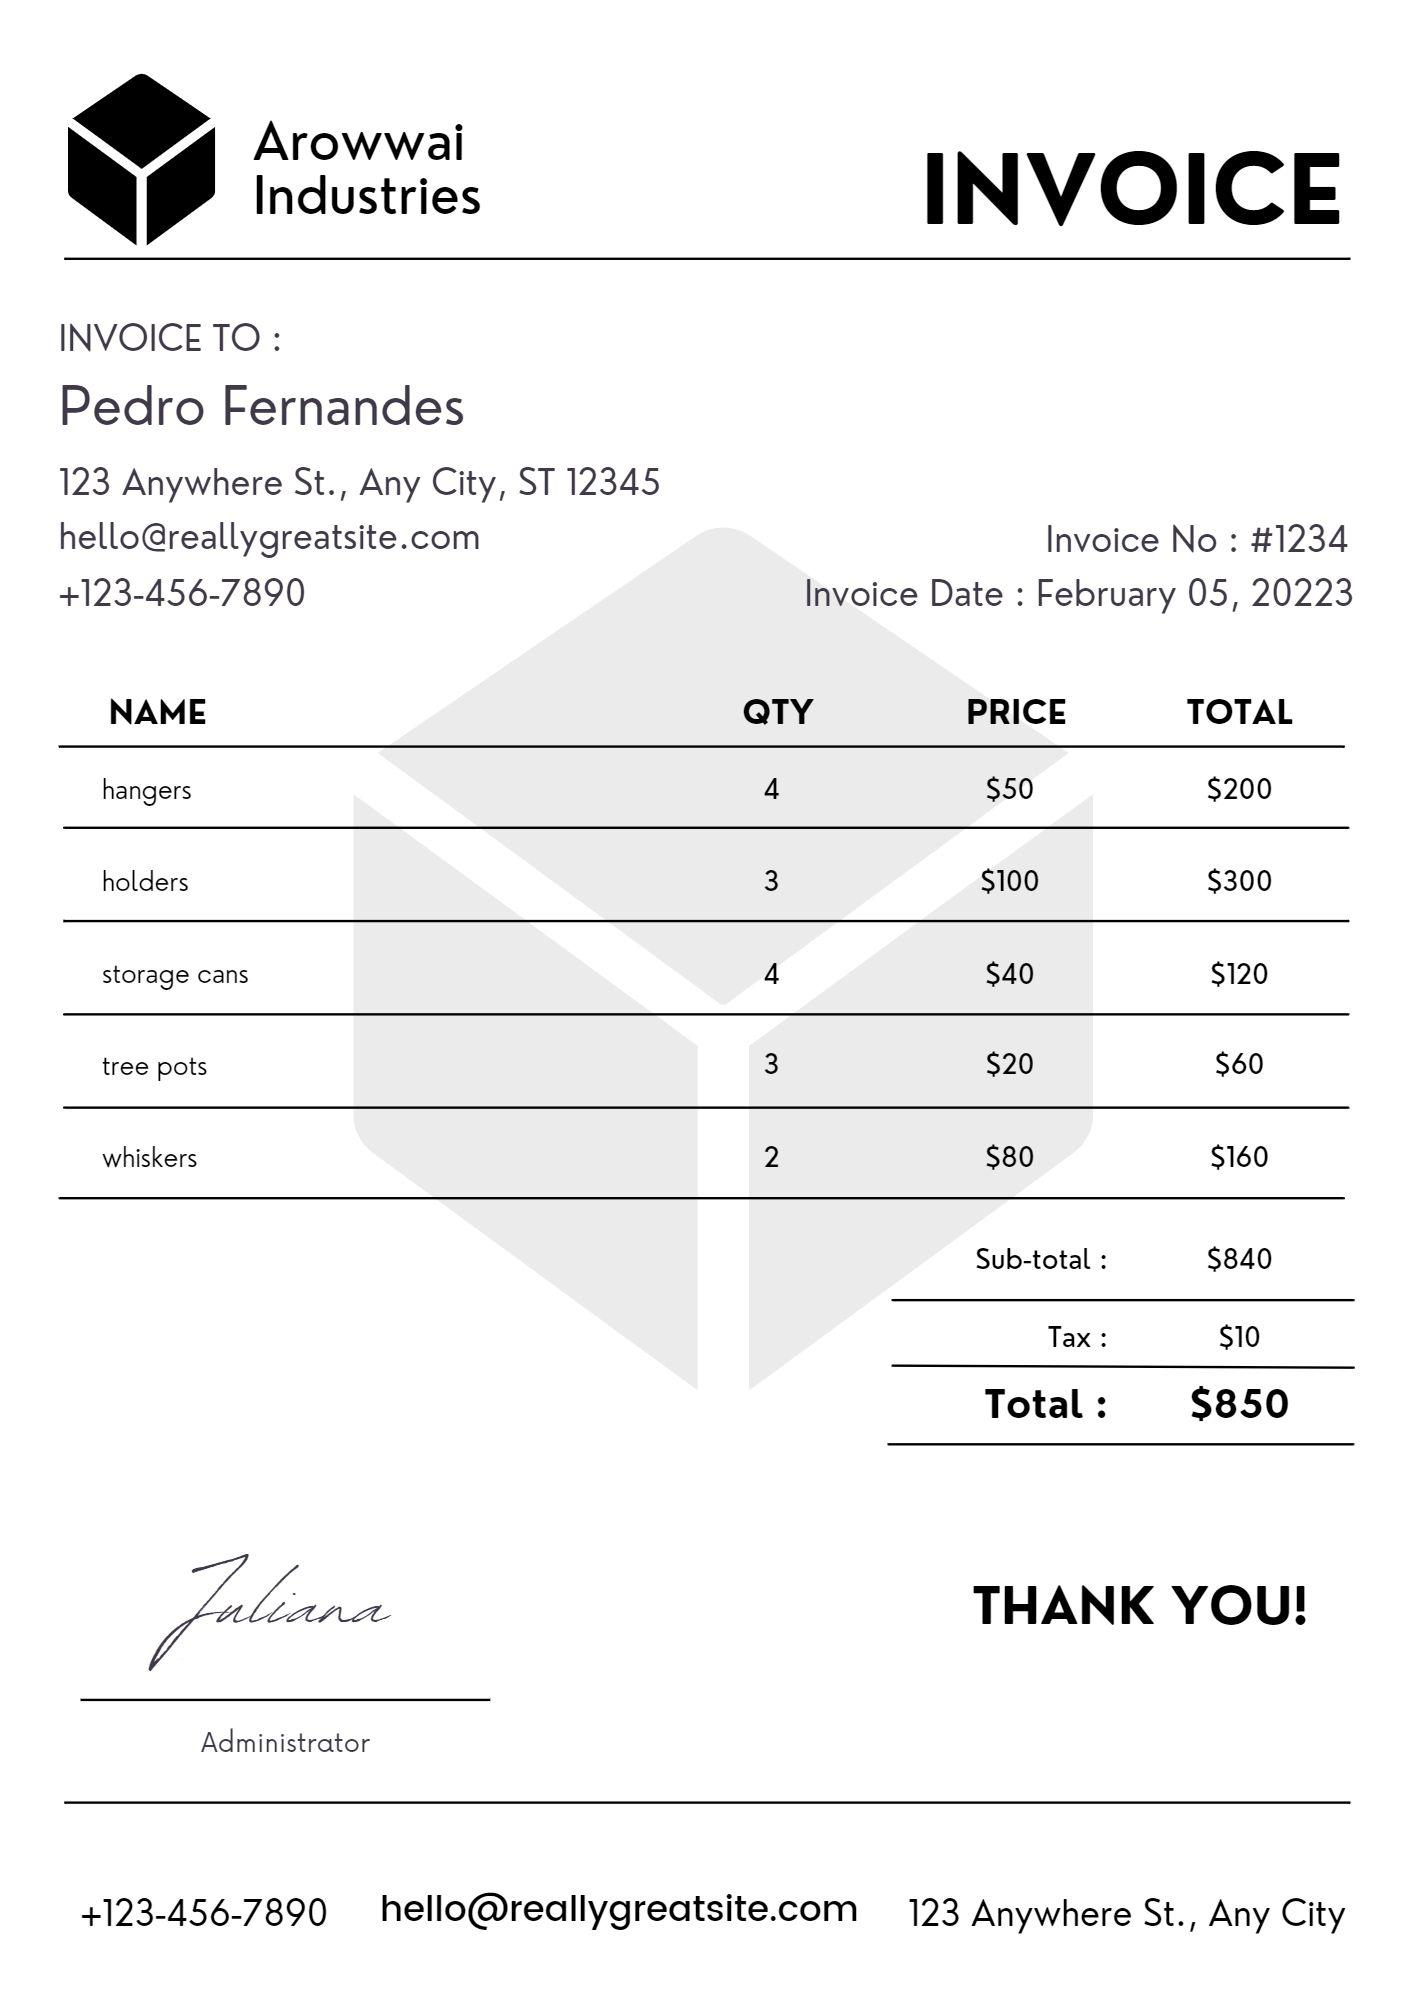ROI: (54, 673, 1348, 1208)
